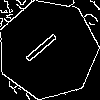I: (23, 24, 67, 65)
